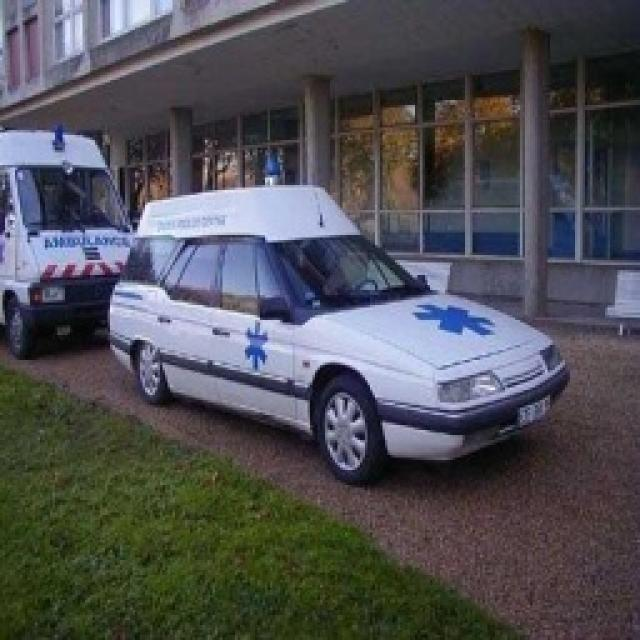emergency-vehicle: (117, 169, 558, 477), (0, 99, 150, 362)
